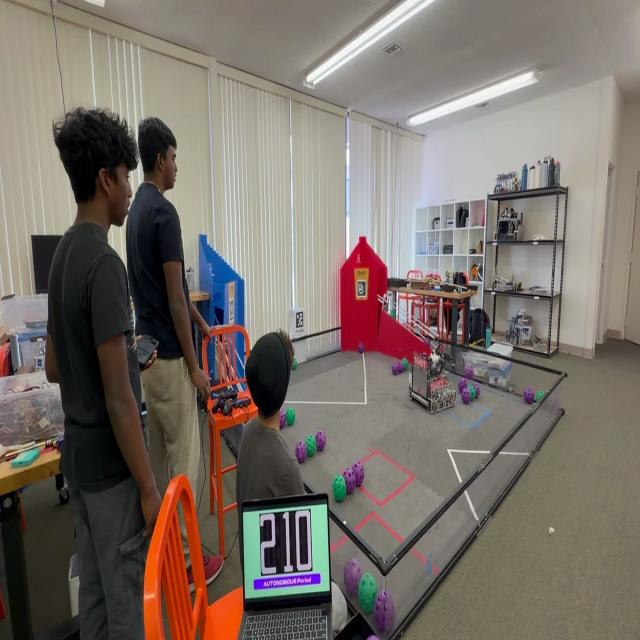artifact_green: (358, 574, 377, 613), (333, 475, 346, 502), (306, 435, 317, 457), (315, 430, 326, 451), (461, 387, 471, 404), (286, 408, 295, 425), (473, 382, 481, 399), (468, 384, 476, 401), (465, 366, 474, 380), (280, 410, 286, 429), (391, 362, 398, 375), (536, 391, 544, 401), (402, 358, 408, 370), (292, 358, 297, 370), (390, 310, 396, 319), (367, 635, 378, 639)
artifact_purple: (374, 590, 396, 633), (344, 559, 362, 596), (343, 468, 356, 494), (352, 462, 364, 486), (296, 441, 306, 463), (316, 430, 326, 451), (524, 387, 535, 404), (461, 388, 471, 404), (473, 382, 481, 399), (280, 410, 287, 429), (458, 378, 467, 392), (465, 366, 473, 379), (396, 361, 404, 374), (395, 362, 402, 375), (392, 363, 398, 375), (358, 343, 364, 353), (425, 337, 430, 347), (391, 363, 395, 375), (367, 635, 379, 639)
